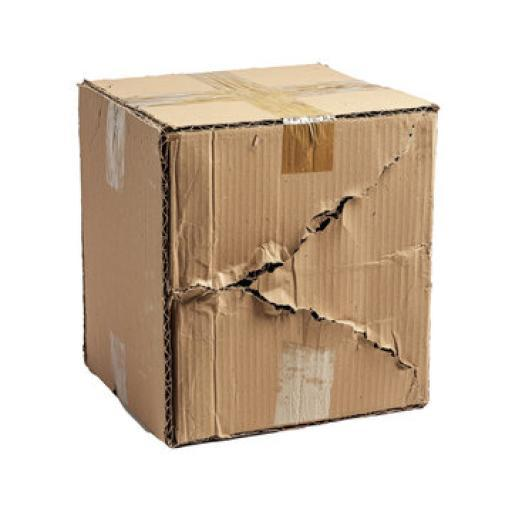torn: (164, 132, 430, 420)
